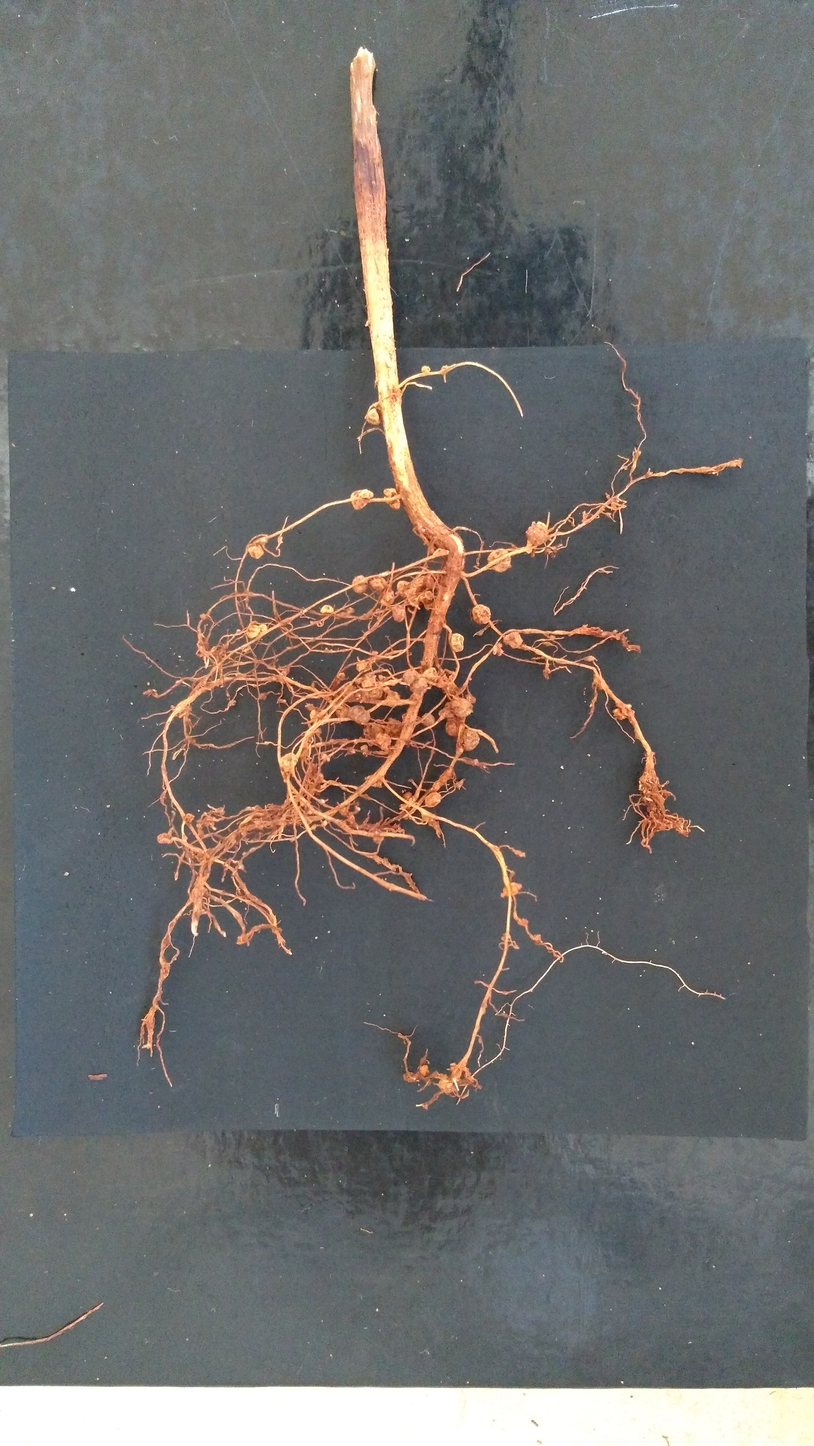nodule: (405, 575, 439, 606), (341, 683, 385, 703), (368, 577, 395, 606), (363, 724, 391, 751), (487, 548, 512, 572), (402, 670, 427, 694), (525, 521, 549, 546), (351, 489, 374, 511), (445, 712, 465, 737), (451, 696, 473, 717), (458, 729, 480, 750), (384, 717, 405, 738), (248, 536, 267, 559), (280, 753, 298, 777), (246, 621, 267, 640), (348, 705, 370, 723), (472, 604, 491, 624), (421, 667, 438, 689), (328, 704, 351, 720), (309, 709, 332, 725), (503, 631, 523, 649), (438, 1075, 456, 1094), (191, 887, 210, 905), (384, 488, 400, 509), (438, 701, 456, 719), (195, 849, 215, 865), (402, 711, 423, 725), (396, 581, 413, 598), (613, 708, 635, 721), (352, 575, 367, 594), (365, 773, 384, 788), (502, 882, 522, 896), (638, 775, 652, 795), (425, 792, 442, 808), (386, 689, 401, 707), (391, 603, 405, 622), (451, 633, 464, 653), (302, 804, 322, 817), (592, 674, 608, 690), (366, 408, 380, 425), (356, 660, 374, 673), (196, 815, 214, 828), (421, 713, 435, 727), (178, 704, 192, 718), (157, 833, 173, 845), (360, 675, 377, 686), (647, 801, 662, 813), (403, 1072, 419, 1083), (253, 816, 264, 830), (493, 643, 503, 657), (339, 803, 349, 816), (465, 692, 476, 703), (532, 933, 543, 944), (419, 1065, 429, 1077), (452, 780, 464, 790), (320, 605, 333, 614), (346, 813, 355, 825), (660, 789, 672, 798), (517, 917, 528, 926), (649, 810, 660, 819), (414, 519, 422, 531), (403, 791, 413, 800), (185, 850, 195, 859), (185, 813, 194, 822), (360, 745, 369, 754), (346, 746, 355, 755), (304, 703, 314, 711), (345, 607, 355, 615), (337, 672, 346, 680), (448, 1062, 457, 1070), (423, 603, 433, 610), (470, 759, 478, 767), (322, 753, 329, 762), (199, 613, 208, 620), (228, 700, 236, 707), (421, 366, 430, 372), (242, 646, 251, 652), (544, 547, 551, 554), (501, 933, 507, 941), (378, 674, 385, 680), (354, 805, 360, 812), (322, 820, 328, 827), (371, 650, 378, 656), (481, 762, 487, 769), (316, 728, 321, 735), (175, 680, 182, 685), (420, 528, 426, 533), (612, 629, 619, 633), (321, 799, 326, 804), (235, 629, 241, 633), (283, 699, 287, 704), (401, 789, 404, 793)
